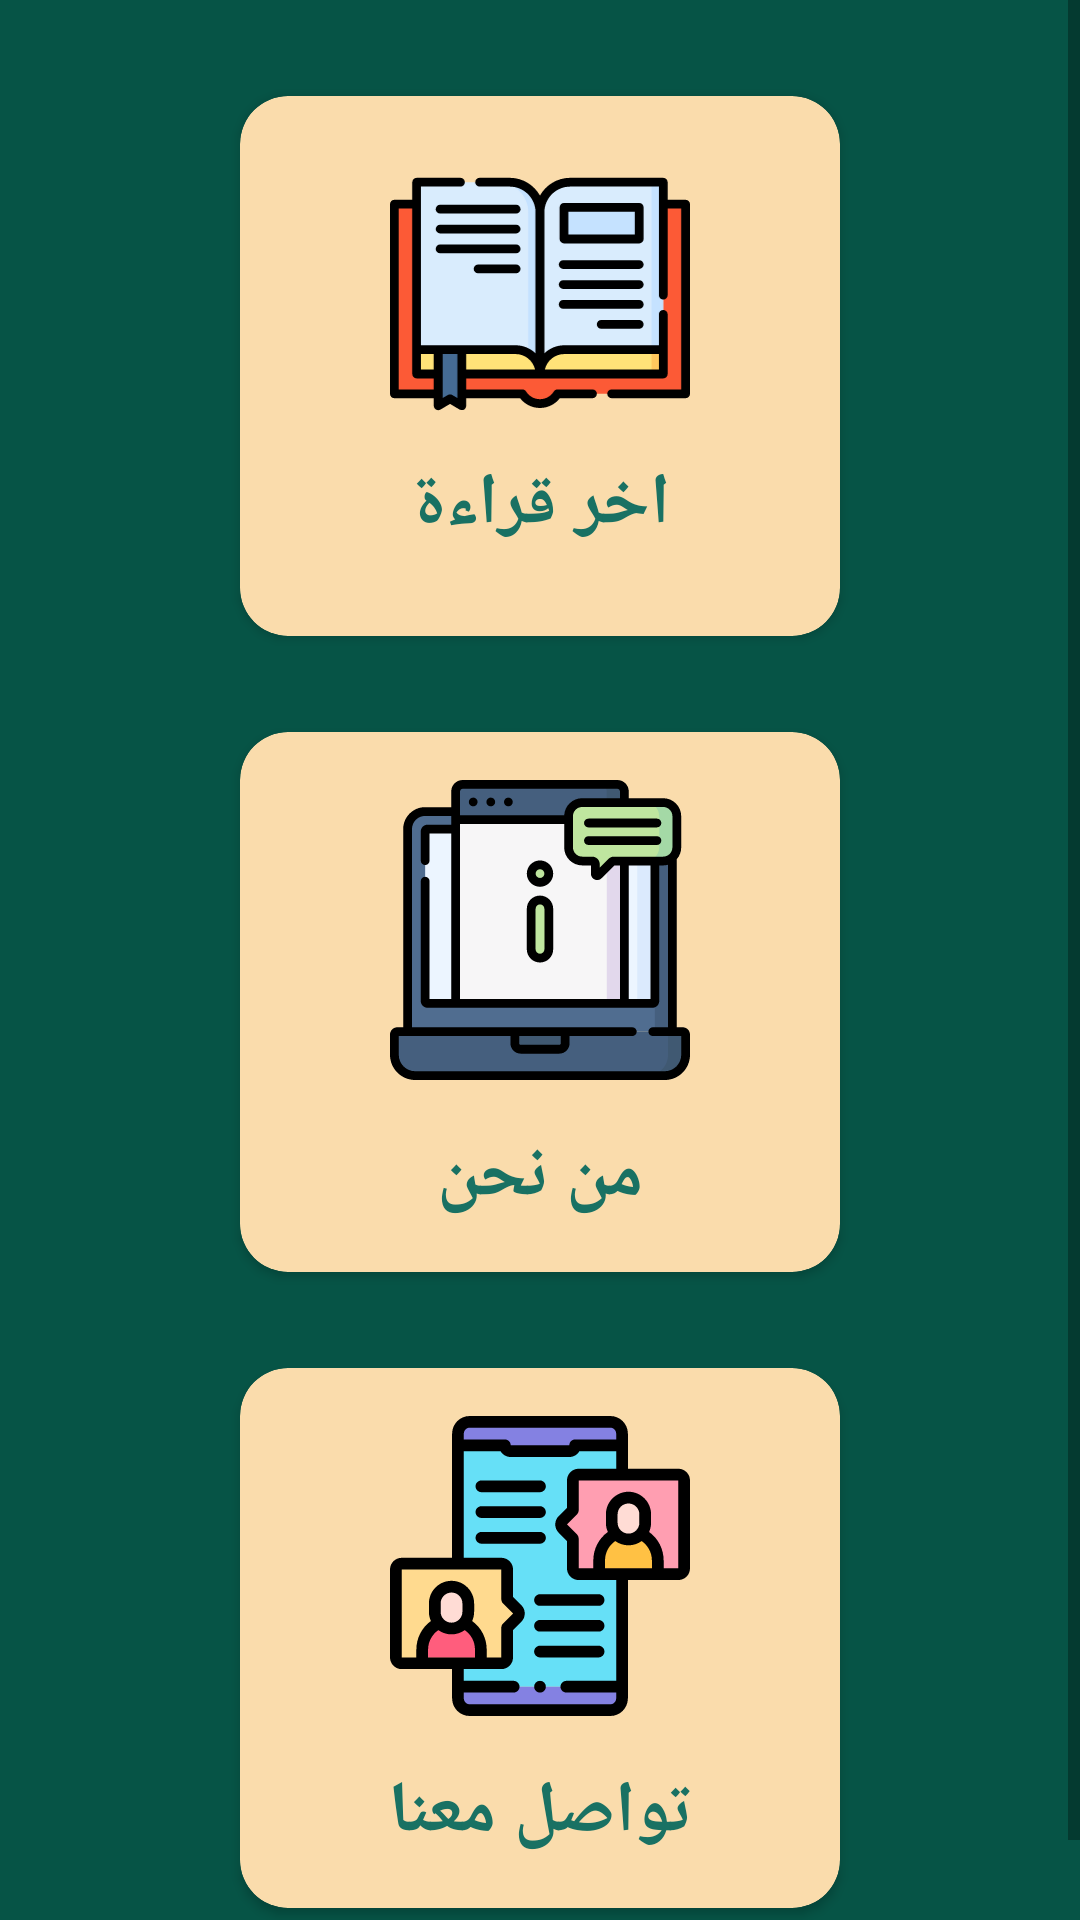

Named icons in this screenshot (1080x1920) and their centers, point (x, y):
bookmark: point (540, 294)
information: point (540, 930)
